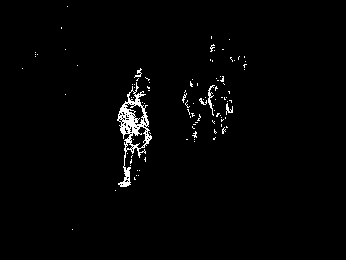person: (115, 91, 152, 188), (207, 75, 233, 139), (183, 78, 207, 138)
